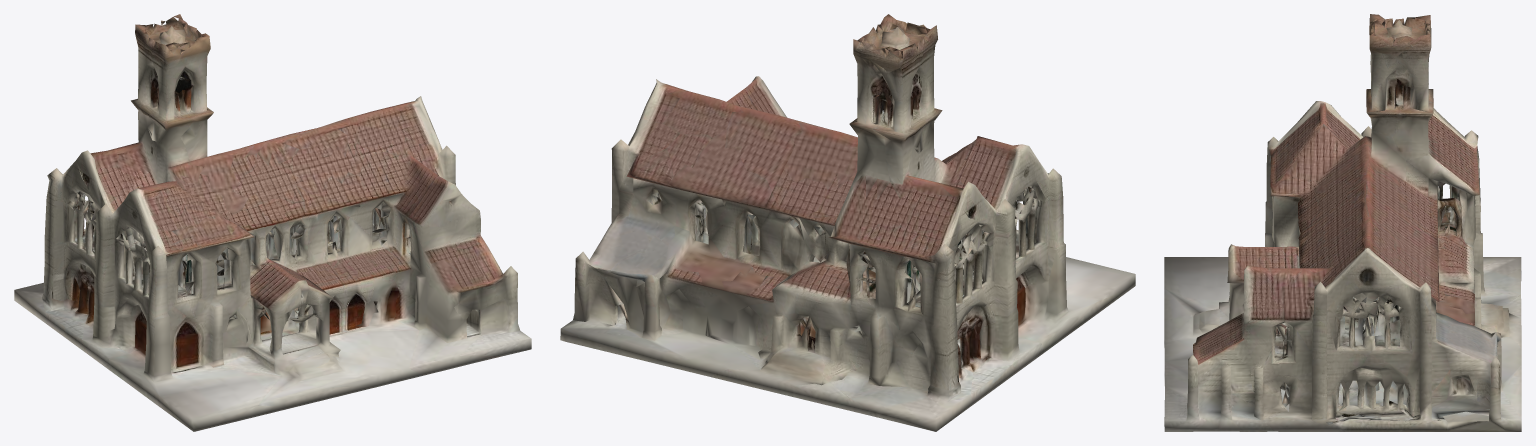
The model's file is blacksmith.glb.
The picture shows the model from 3 angles, left to right: view 1: azimuth 30°, elevation 25°; view 2: azimuth 150°, elevation 25°; view 3: azimuth 270°, elevation 25°; orthographic projection. The views are drawn at different scales.
Size of the model in its own units: 1.91 by 1.6 by 1.76.
Materials: 1 (1 with a texture image).
